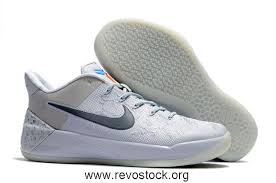nike: (46, 101, 136, 131)
